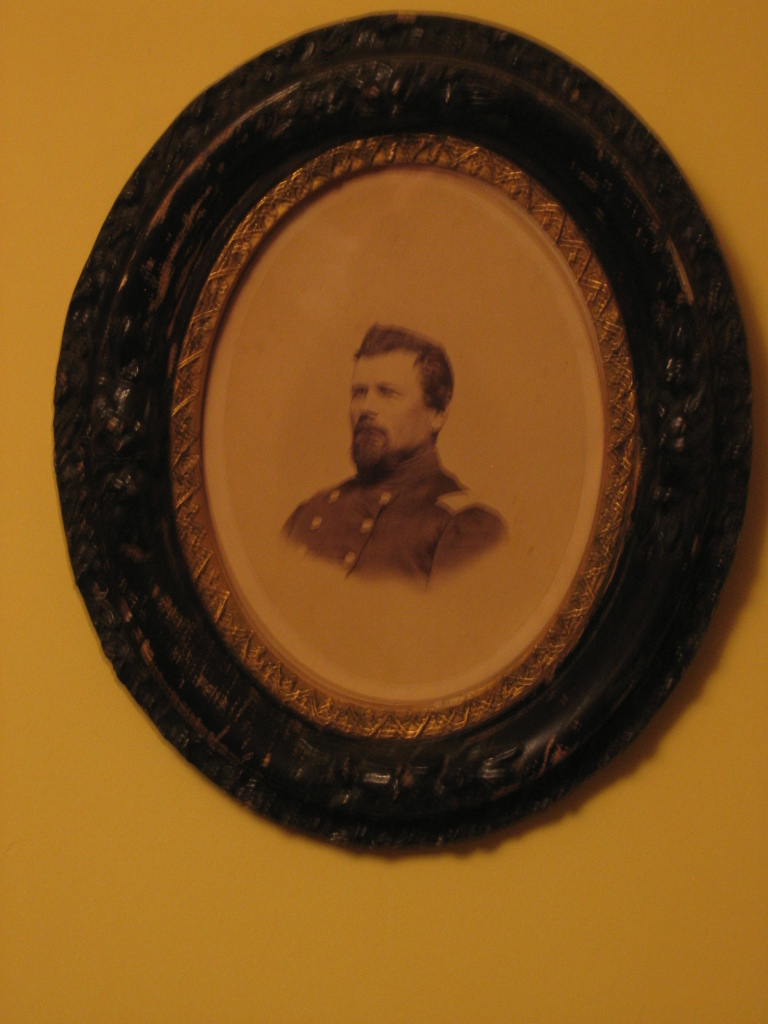plate: (45, 35, 756, 821)
